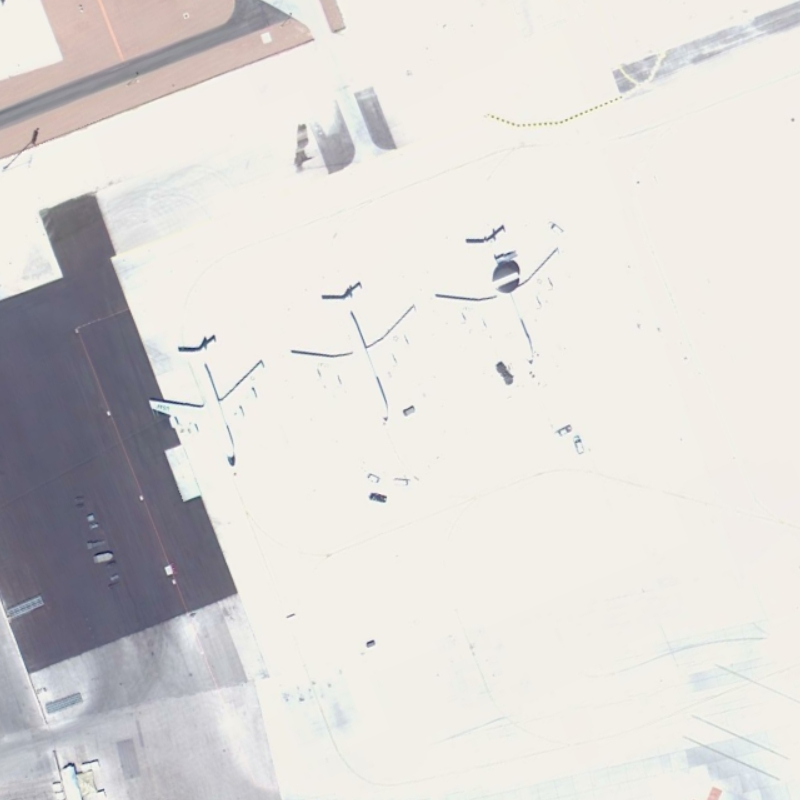A11: (284, 276, 425, 430), (137, 330, 283, 472)
A7: (432, 222, 565, 378)
